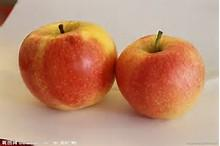apple: (23, 21, 112, 111), (119, 35, 203, 120)
